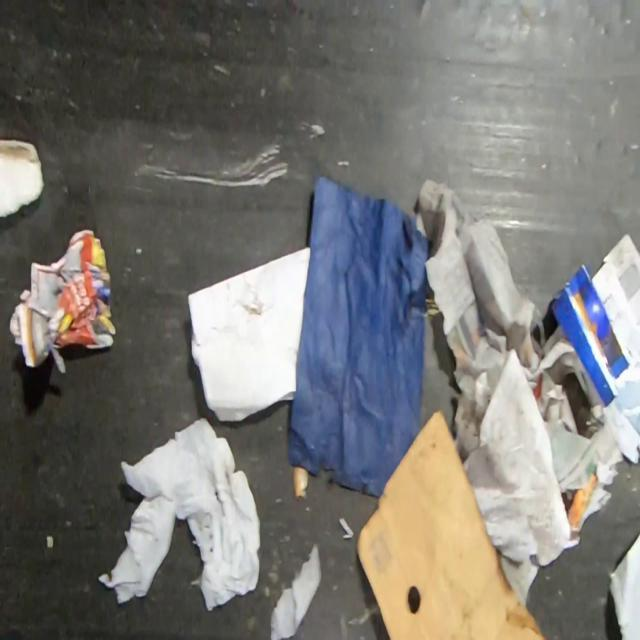cardboard: (354, 408, 549, 640), (607, 530, 640, 639)
